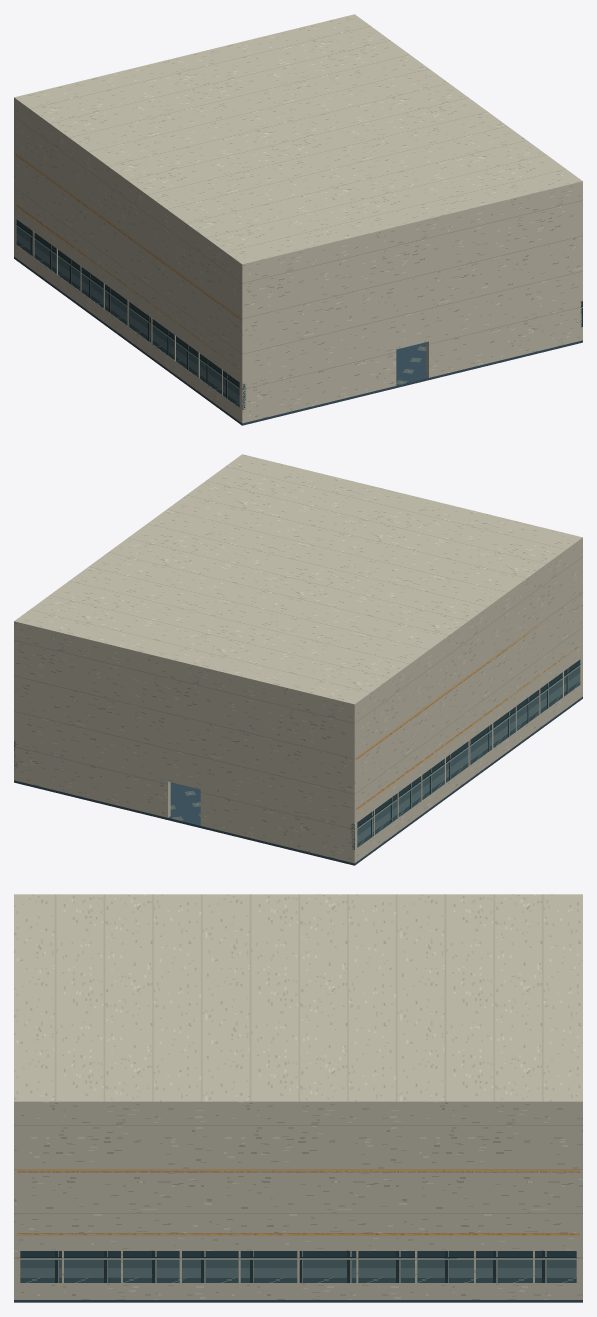
Rendered from mv-grand-atrium.glb.
The picture shows the model from 3 angles, top to bottom: view 1: azimuth 30°, elevation 25°; view 2: azimuth 150°, elevation 25°; view 3: azimuth 270°, elevation 25°; orthographic projection. The views are drawn at different scales.
Parts seen in each view (by area): view 1: shell, floor_mv-grand-atrium, fittings; view 2: shell, floor_mv-grand-atrium, fittings; view 3: shell, fittings, floor_mv-grand-atrium.
Boxes of the visible parts, left/top/right/bottom form: shell: left=14, top=14, right=582, bottom=423; floor_mv-grand-atrium: left=14, top=256, right=582, bottom=425; fittings: left=15, top=153, right=240, bottom=370; shell: left=14, top=454, right=582, bottom=863; floor_mv-grand-atrium: left=14, top=696, right=582, bottom=865; fittings: left=356, top=593, right=581, bottom=810; shell: left=14, top=894, right=582, bottom=1299; fittings: left=17, top=1169, right=579, bottom=1235; floor_mv-grand-atrium: left=14, top=1300, right=582, bottom=1302.
Size of the model in its own units: 25.04 by 11.31 by 29.
8 materials, 8 textured.
